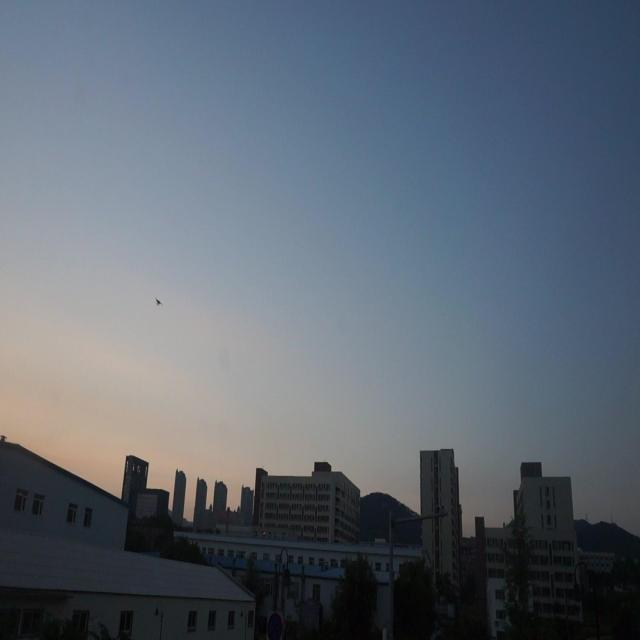drone: (154, 295, 164, 310)
